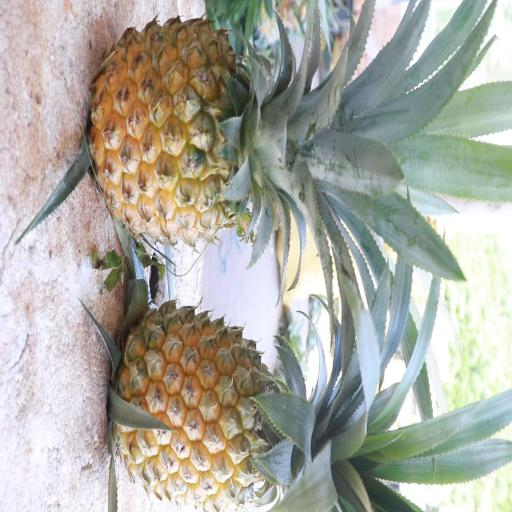Pineapple - v8 v1: (85, 10, 323, 254), (106, 297, 352, 511)
